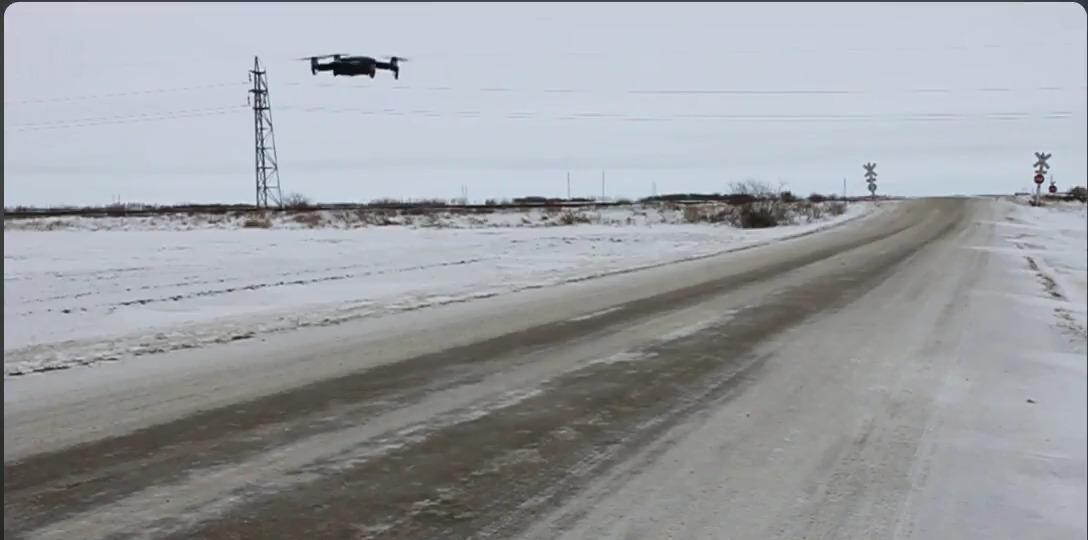dr: (299, 51, 408, 81)
